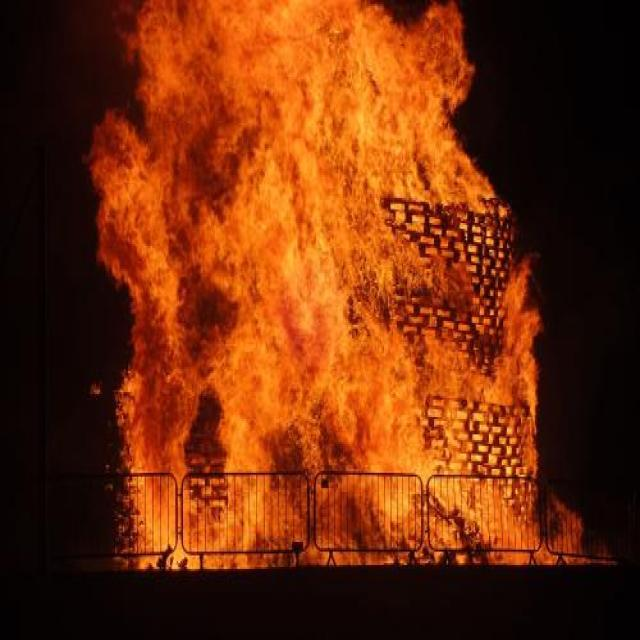Fire: (81, 0, 618, 571)
